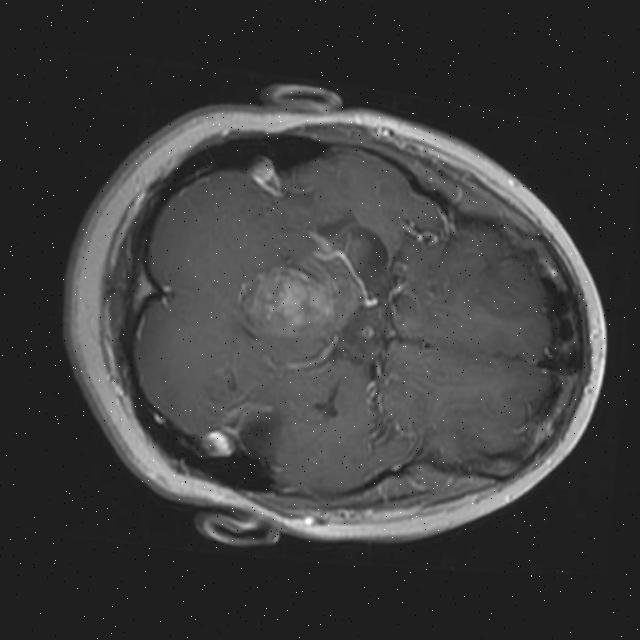Glioma: (243, 260, 341, 343)
